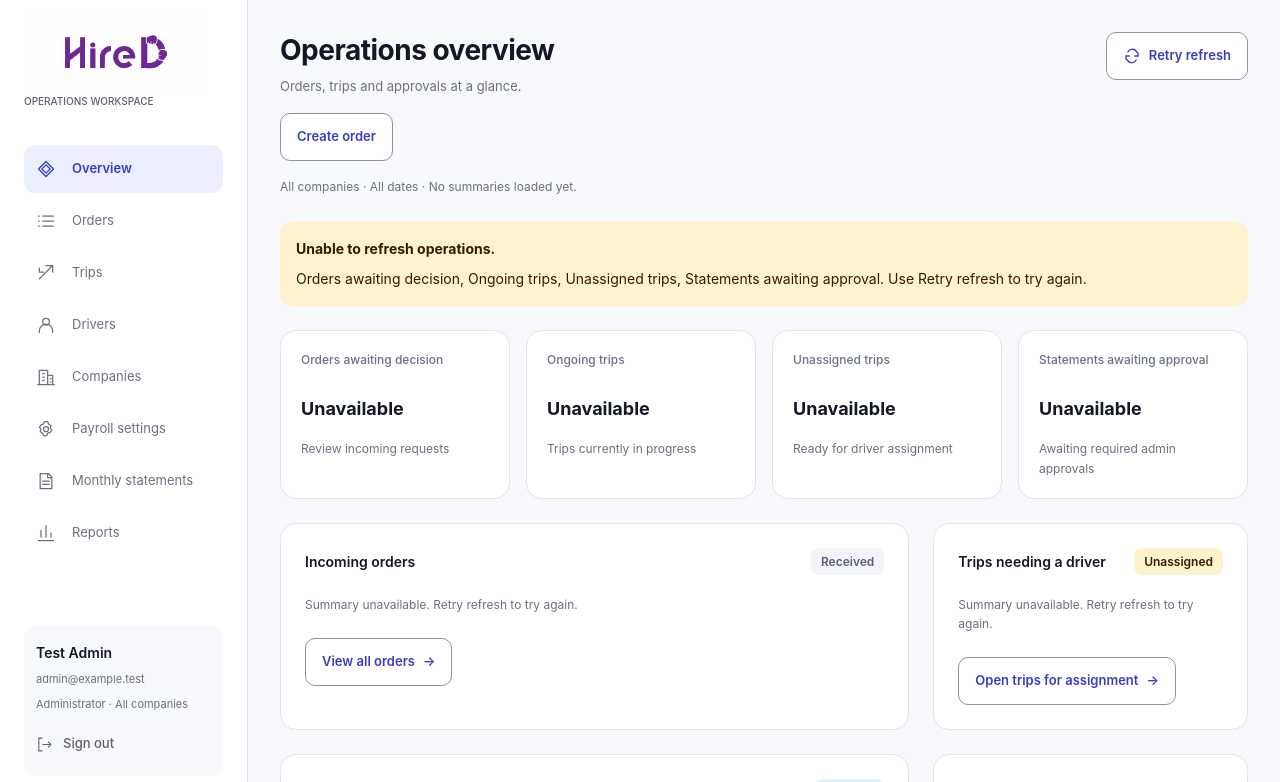
operations overview › shows complete failure and recovers without a false empty state, including offline requests
(page scrolled)
Expected: the message that starts with "Unable to refresh operations." is shown, top-left (296, 240), bottom-right (495, 257)
Expected: the text "Unavailable" is shown 4 times, top-left (301, 398), bottom-right (404, 419); top-left (547, 398), bottom-right (650, 419); top-left (793, 398), bottom-right (896, 419); top-left (1039, 398), bottom-right (1142, 419)
Step 1. Click the button "Retry refresh" → {"x": 1177, "y": 56}, box top-left (1106, 32), bottom-right (1248, 80)
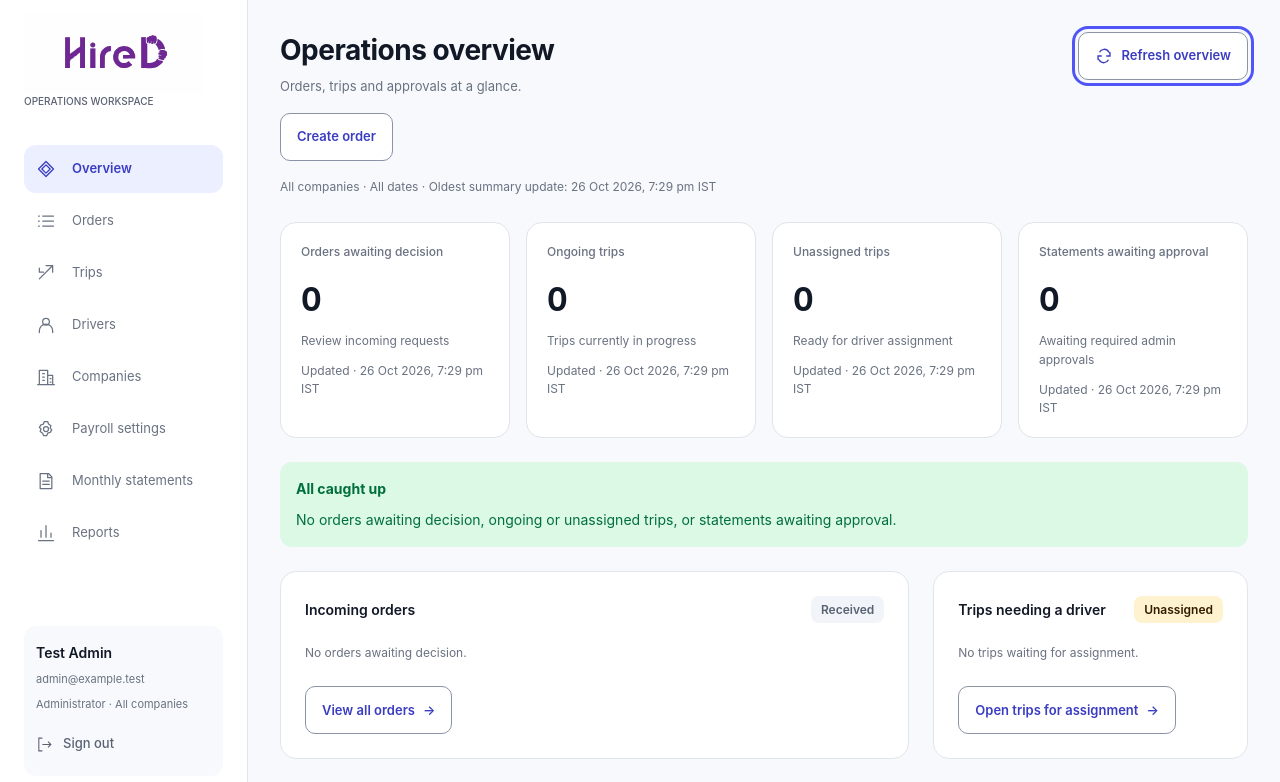
Now the text "All caught up" is shown, box top-left (296, 480), bottom-right (386, 497)
